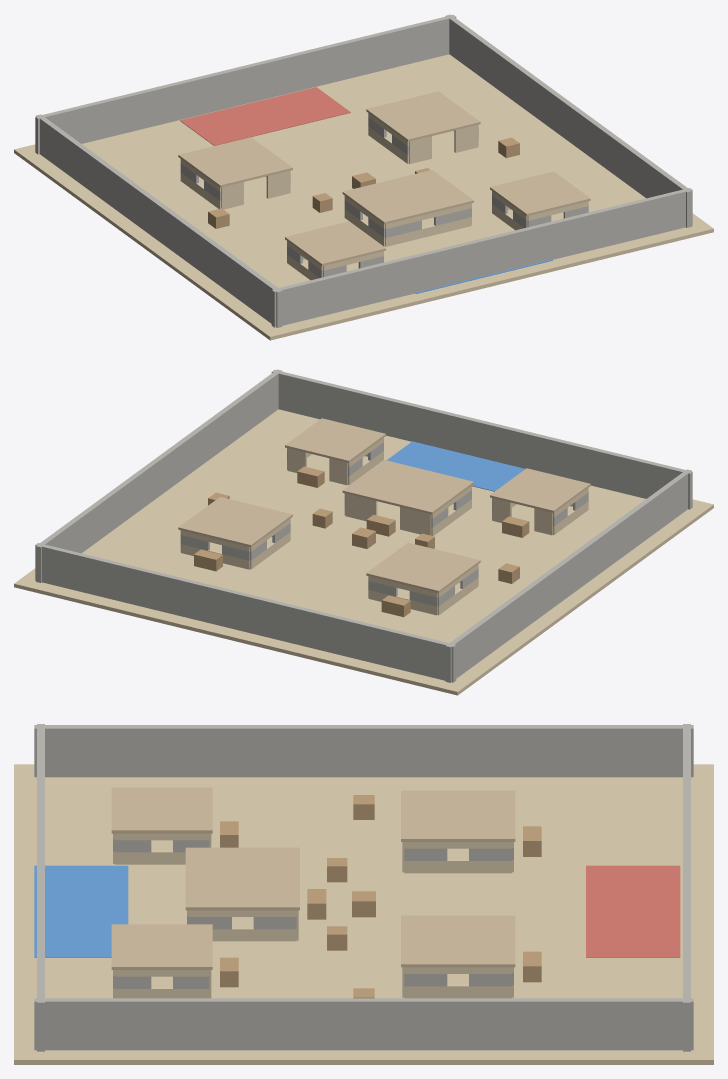
File: map.glb
3 renders of one model, top to bottom at view 1: azimuth 30°, elevation 25°; view 2: azimuth 150°, elevation 25°; view 3: azimuth 270°, elevation 25°, orthographic. The views are drawn at different scales.
Visible parts, largest first — view 1: floor, ringS, ringN, ringW, ringE, base_red, hC_roof, hA_roof, hB_roof, hD_roof, hE_roof, hC_s (+4 smaller); view 2: floor, ringN, ringS, ringW, ringE, hC_roof, hA_roof, hB_roof, base_blue, hE_roof, hD_roof, hC_dl (+2 smaller); view 3: floor, ringE, ringW, base_red, base_blue, hC_roof, hB_roof, hA_roof, hD_roof, hE_roof, ringN, ringS (+21 smaller).
Part boxes in pixels (x1,y1,x2,y2): floor: (14, 54, 713, 340); ringS: (271, 188, 692, 327); ringN: (35, 14, 456, 154); ringW: (36, 114, 282, 327); ringE: (445, 14, 691, 227); base_red: (180, 87, 350, 145); hC_roof: (342, 170, 473, 224); hA_roof: (178, 137, 292, 187); hB_roof: (366, 91, 480, 141); hD_roof: (285, 221, 385, 266); hE_roof: (490, 171, 590, 215); hC_s: (385, 217, 471, 246); floor: (14, 409, 713, 695); ringN: (35, 543, 456, 682); ringS: (271, 369, 692, 509); ringW: (445, 469, 691, 682); ringE: (36, 369, 282, 582); hC_roof: (342, 460, 473, 514); hA_roof: (366, 542, 480, 592); hB_roof: (178, 497, 292, 547); base_blue: (387, 441, 524, 491); hE_roof: (285, 418, 385, 462); hD_roof: (490, 468, 590, 512); hC_dl: (400, 507, 431, 535); floor: (14, 764, 713, 1064); ringE: (34, 998, 693, 1050); ringW: (34, 725, 693, 777); base_red: (586, 865, 680, 957); base_blue: (34, 865, 128, 957); hC_roof: (185, 847, 299, 910); hB_roof: (401, 915, 515, 967); hA_roof: (401, 790, 515, 841); hD_roof: (111, 787, 212, 833); hE_roof: (111, 924, 212, 969); ringN: (683, 724, 690, 1051); ringS: (37, 724, 44, 1051).
Size of the model in its own units: 52 by 4.4 by 52.
